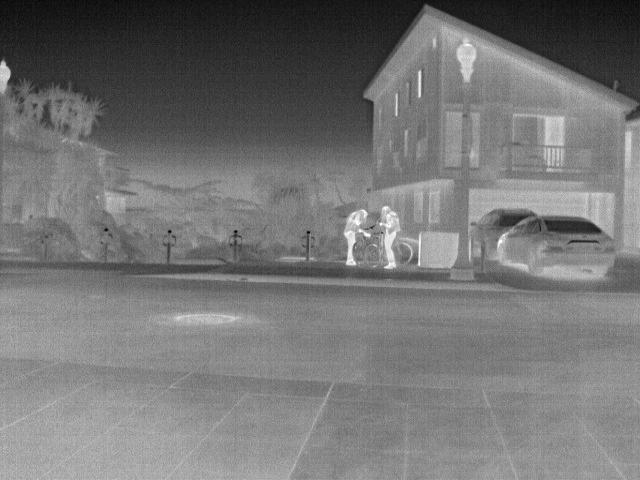car: (495, 215, 618, 280), (469, 207, 536, 263)
person: (344, 206, 372, 266), (378, 204, 399, 270)
